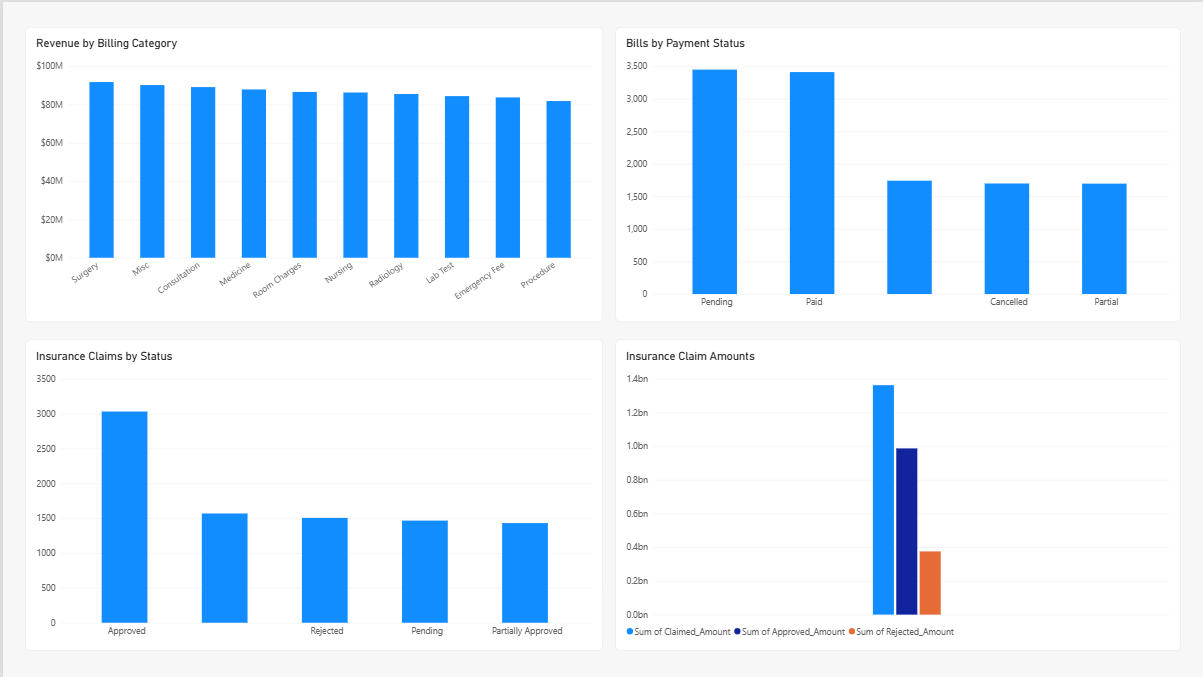

This screenshot's page, from the dashboard's own definition file:
{"tool":"powerbi","page":{"name":"Finance & Insurance","canvas":[1920,1080],"ordinal":2},"visuals":[{"type":"clusteredColumnChart","title":"Revenue by Billing Category","fields":{"Category":["06_billing_cleaned.Bill_Category"],"Y":["06_billing_cleaned.Total Revenue"]},"box":[36,40,924,472],"z":0},{"type":"clusteredColumnChart","title":"Bills by Payment Status","fields":{"Category":["06_billing_cleaned.Payment_Status"],"Y":["CountNonNull(06_billing_cleaned.Bill_ID)"]},"box":[980,40,904,472],"z":1000},{"type":"clusteredColumnChart","title":"Insurance Claims by Status","fields":{"Category":["11_insurance_claims_cleaned.Claim_Status"],"Y":["11_insurance_claims_cleaned.Total Claims"]},"box":[36,540,924,498],"z":2000},{"type":"clusteredColumnChart","title":"Insurance Claim Amounts","fields":{"Y":["Sum(11_insurance_claims_cleaned.Claimed_Amount)","Sum(11_insurance_claims_cleaned.Approved_Amount)","Sum(11_insurance_claims_cleaned.Rejected_Amount)"]},"box":[980,540,904,498],"z":3000}]}

Visuals, with their boxes in screenshot pixels (x1, y1, x2, y2), scaled from the page's 1920x1080 canvas onto the 1203x677 screenshot:
"Revenue by Billing Category" clusteredColumnChart: {"x1": 23, "y1": 25, "x2": 602, "y2": 321}
"Bills by Payment Status" clusteredColumnChart: {"x1": 614, "y1": 25, "x2": 1180, "y2": 321}
"Insurance Claims by Status" clusteredColumnChart: {"x1": 23, "y1": 338, "x2": 602, "y2": 651}
"Insurance Claim Amounts" clusteredColumnChart: {"x1": 614, "y1": 338, "x2": 1180, "y2": 651}
